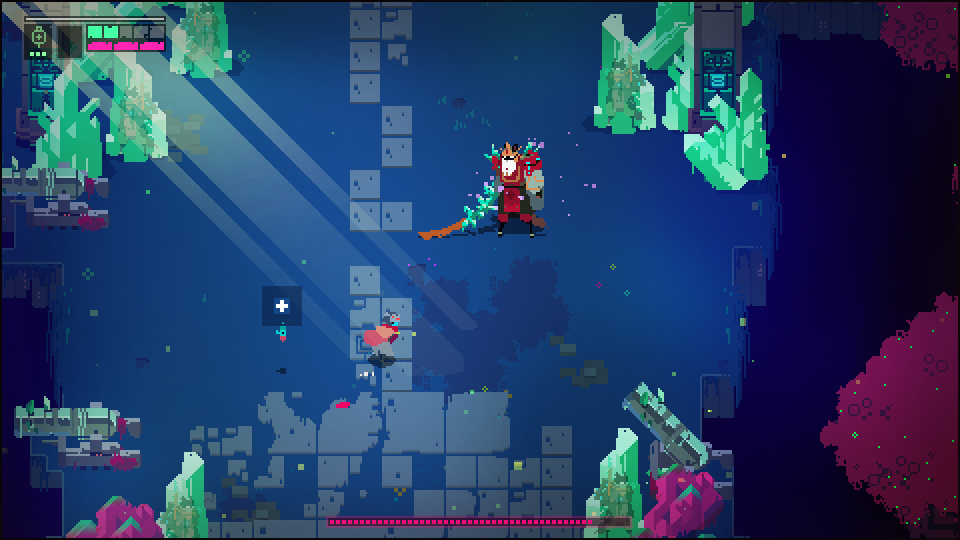hanged_man: (456, 141, 552, 241)
player: (363, 308, 402, 368)
